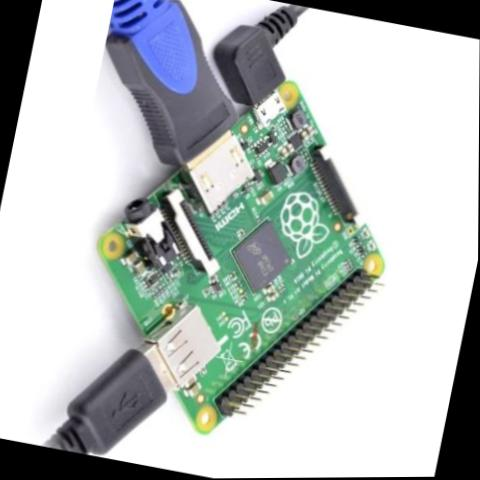Raspberry-Pi-1-Model-A-: (46, 32, 430, 480)
